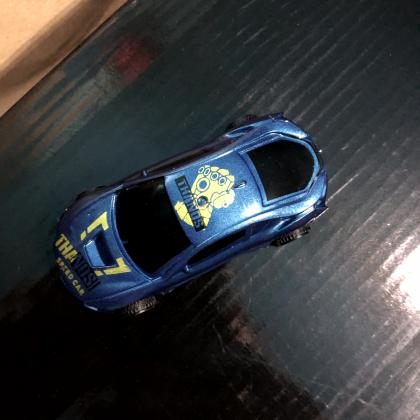Car: (52, 117, 329, 317)
